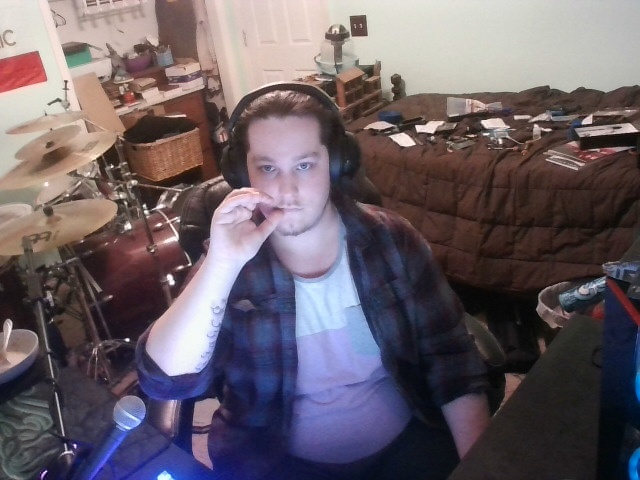drink: (193, 176, 287, 276)
